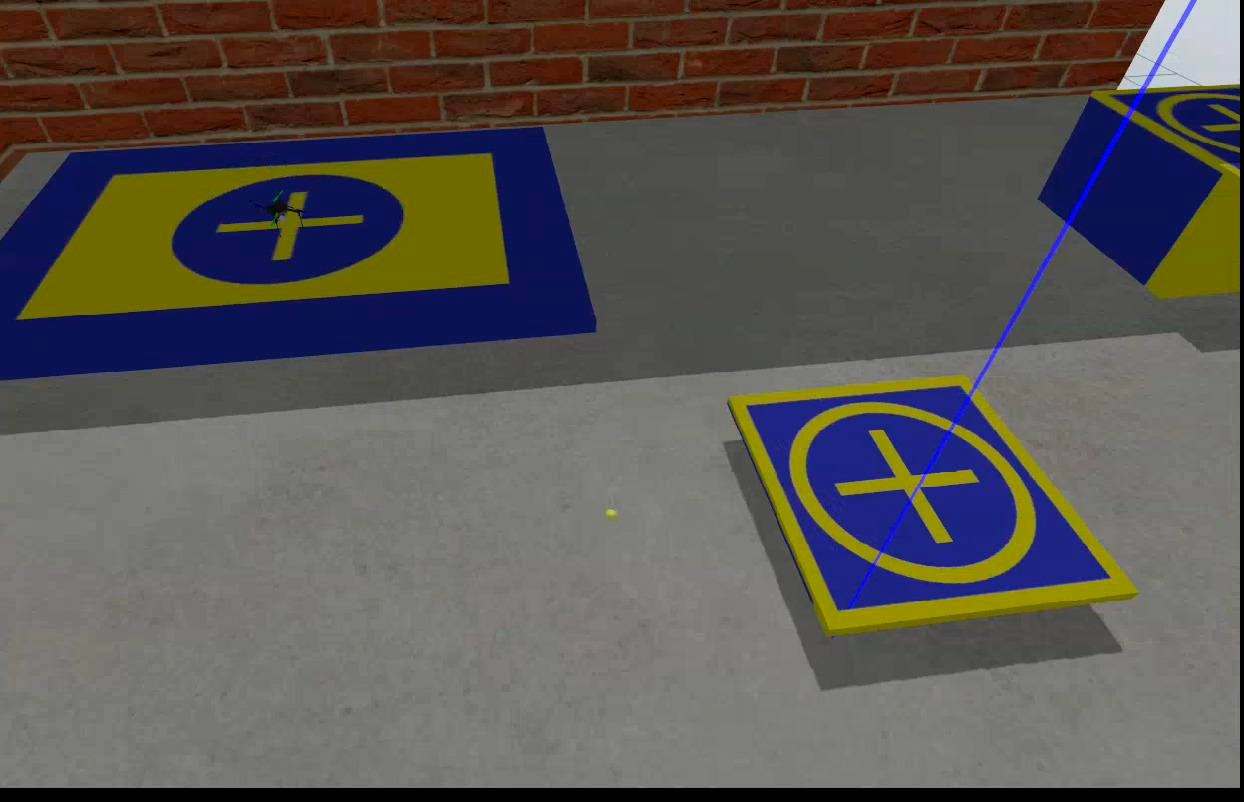large_base: (0, 125, 593, 378)
small_base: (728, 374, 1139, 630), (1090, 72, 1244, 173)
